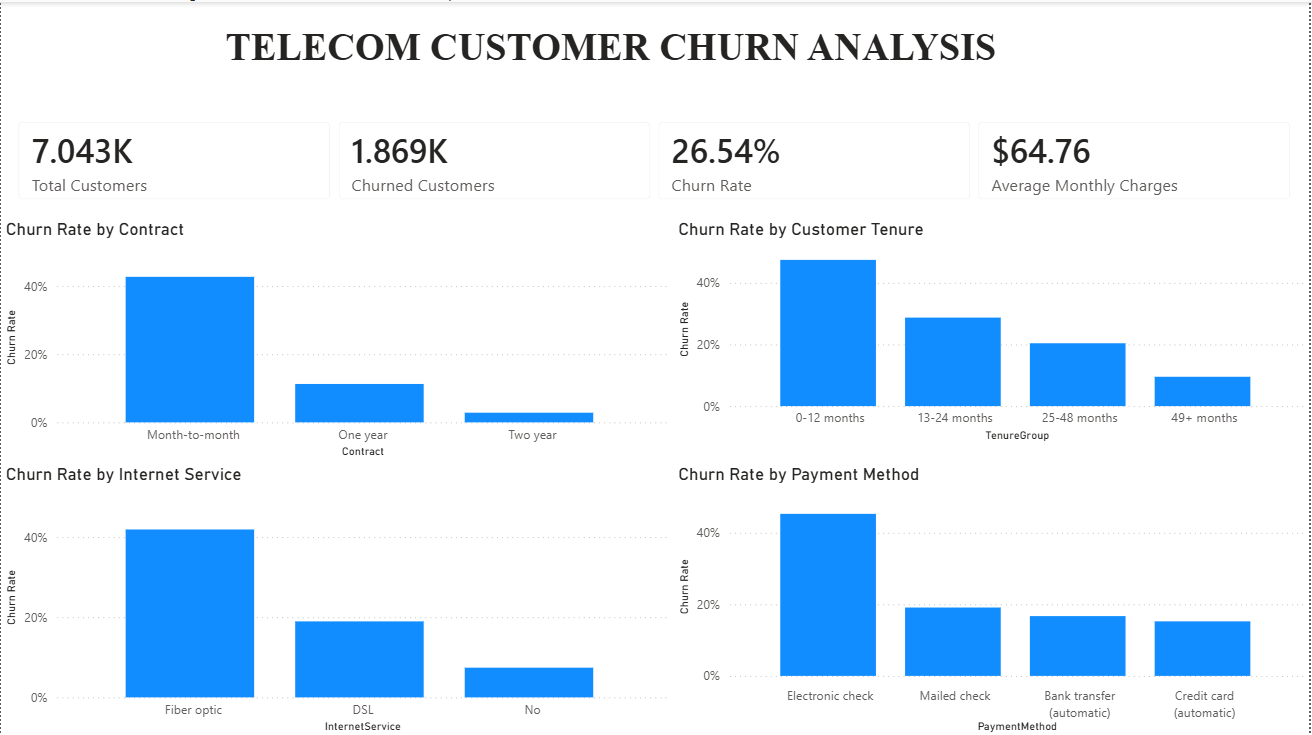

What the dashboard file says about the page in this screenshot:
{"tool":"powerbi","page":{"name":"CUSTOMER CHURN ANALYSIS","canvas":[1280,720],"ordinal":0},"visuals":[{"type":"cardVisual","fields":{"Data":["Telco-Customer-Churn-Cleaned.Total Customers","Telco-Customer-Churn-Cleaned.Churned Customers","Telco-Customer-Churn-Cleaned.Churn Rate","Telco-Customer-Churn-Cleaned.Average Monthly Charges"]},"box":[0,100.3,1280.3,110.1],"z":0},{"type":"clusteredColumnChart","fields":{"Y":["Telco-Customer-Churn-Cleaned.Churn Rate"],"Category":["Telco-Customer-Churn-Cleaned.Contract"]},"box":[0,211.6,657.9,239.7],"z":1000},{"type":"clusteredColumnChart","title":"Churn Rate by Customer Tenure","fields":{"Y":["Telco-Customer-Churn-Cleaned.Churn Rate"],"Category":["Telco-Customer-Churn-Cleaned.TenureGroup"]},"box":[657.9,211.6,622.4,223.8],"z":2000},{"type":"clusteredColumnChart","title":"Churn Rate by Internet Service","fields":{"Y":["Telco-Customer-Churn-Cleaned.Churn Rate"],"Category":["Telco-Customer-Churn-Cleaned.InternetService"]},"box":[0,451.2,657.9,269],"z":3000},{"type":"clusteredColumnChart","title":"Churn Rate by Payment Method","fields":{"Y":["Telco-Customer-Churn-Cleaned.Churn Rate"],"Category":["Telco-Customer-Churn-Cleaned.PaymentMethod"]},"box":[657.9,451.2,622.4,269],"z":4000},{"type":"textbox","box":[0,0,1280.3,100.3],"z":5000}]}

Visuals, with their boxes in screenshot pixels (x1, y1, x2, y2), scaled from the page's 1280x720 canvas onto the 1312x735 screenshot:
cardVisual - Telco-Customer-Churn-Cleaned.Total Customers x Telco-Customer-Churn-Cleaned.Churned Customers: crop(0, 102, 1311, 215)
clusteredColumnChart - Telco-Customer-Churn-Cleaned.Churn Rate x Telco-Customer-Churn-Cleaned.Contract: crop(0, 216, 674, 461)
"Churn Rate by Customer Tenure" clusteredColumnChart: crop(674, 216, 1311, 444)
"Churn Rate by Internet Service" clusteredColumnChart: crop(0, 461, 674, 734)
"Churn Rate by Payment Method" clusteredColumnChart: crop(674, 461, 1311, 734)
textbox: crop(0, 0, 1311, 102)
